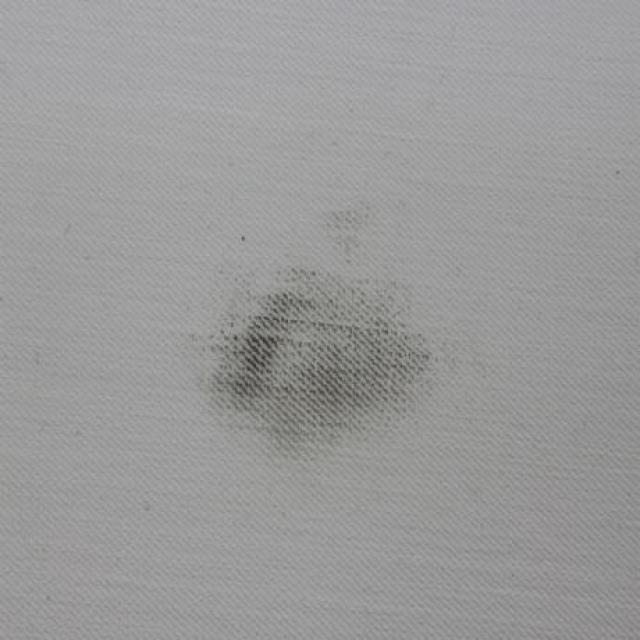Thread_other: (116, 147, 517, 548)
